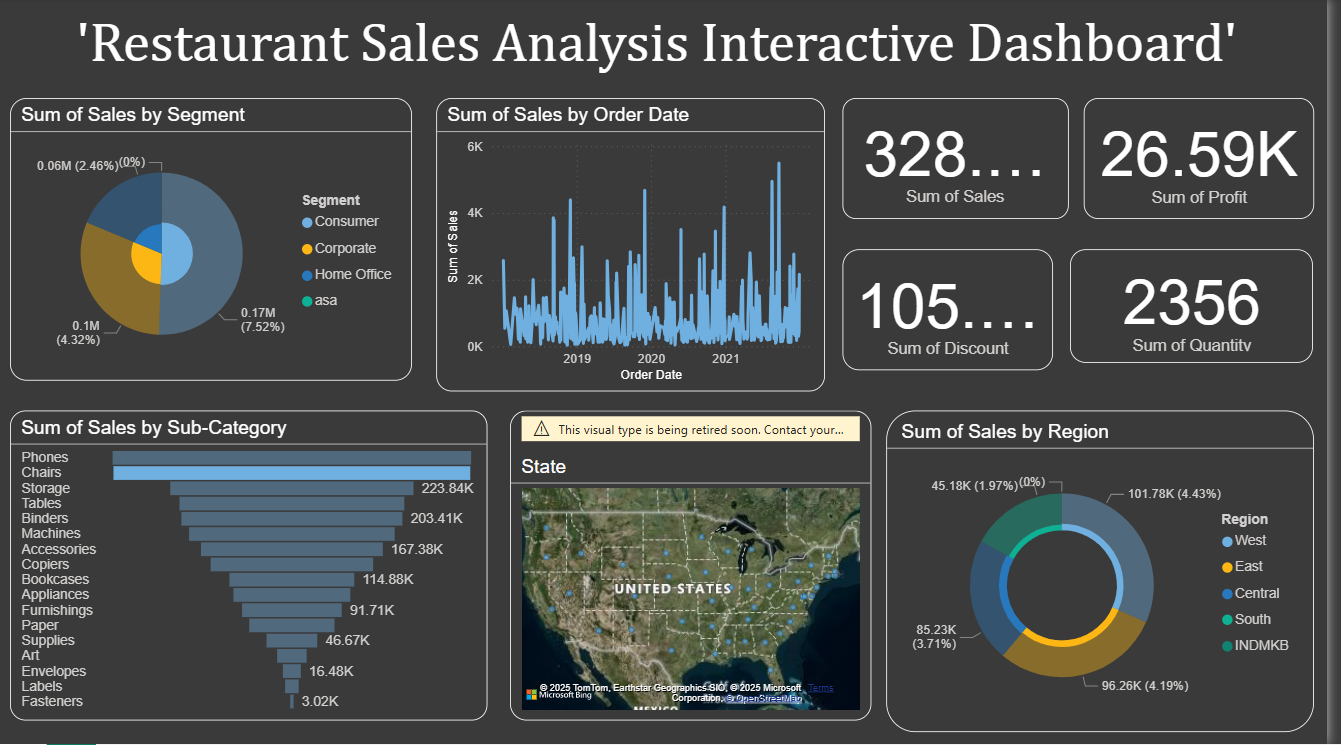

This screenshot's page, from the dashboard's own definition file:
{"tool":"powerbi","page":{"name":"Page 1","canvas":[1280,720],"ordinal":0},"visuals":[{"type":"donutChart","fields":{"Category":["Orders.Region"],"Y":["Sum(Orders.Sales)"]},"box":[855.4,398.1,412.6,310.1],"z":0},{"type":"map","fields":{"Category":["Orders.State"]},"box":[492.2,398.1,348.7,299.2],"z":1000},{"type":"funnel","fields":{"Category":["Orders.Sub-Category"],"Y":["Sum(Orders.Sales)"]},"box":[9.7,398.1,460.9,299.2],"z":2000},{"type":"pieChart","fields":{"Category":["Orders.Segment"],"Y":["Sum(Orders.Sales)"]},"box":[9.6,96.1,388.3,273.1],"z":3000},{"type":"lineChart","fields":{"Category":["Orders.Order Date"],"Y":["Sum(Orders.Sales)"]},"box":[421,96.5,375.2,283.5],"z":4000},{"type":"card","fields":{"Values":["Sum(Orders.Sales)"]},"box":[813.7,96.1,218.2,116.6],"z":5000},{"type":"card","fields":{"Values":["Sum(Orders.Profit)"]},"box":[1045.6,96.1,222.3,116.6],"z":6000},{"type":"card","fields":{"Values":["Sum(Orders.Discount)"]},"box":[813.7,242.9,203.1,116.6],"z":6001},{"type":"card","fields":{"Values":["Sum(Orders.Quantity)"]},"box":[1033.3,242.9,234.6,109.8],"z":6002},{"type":"textbox","box":[0,10.9,1268,76],"z":6003}]}

Visuals, with their boxes in screenshot pixels (x1, y1, x2, y2), scaled from the page's 1280x720 canvas onto the 1341x745 screenshot:
donutChart - Orders.Region x Sum(Orders.Sales): rect(896, 412, 1328, 733)
map - Orders.State: rect(516, 412, 881, 722)
funnel - Orders.Sub-Category x Sum(Orders.Sales): rect(10, 412, 493, 722)
pieChart - Orders.Segment x Sum(Orders.Sales): rect(10, 99, 417, 382)
lineChart - Orders.Order Date x Sum(Orders.Sales): rect(441, 100, 834, 393)
card - Sum(Orders.Sales): rect(852, 99, 1081, 220)
card - Sum(Orders.Profit): rect(1095, 99, 1328, 220)
card - Sum(Orders.Discount): rect(852, 251, 1065, 372)
card - Sum(Orders.Quantity): rect(1083, 251, 1328, 365)
textbox: rect(0, 11, 1328, 90)
